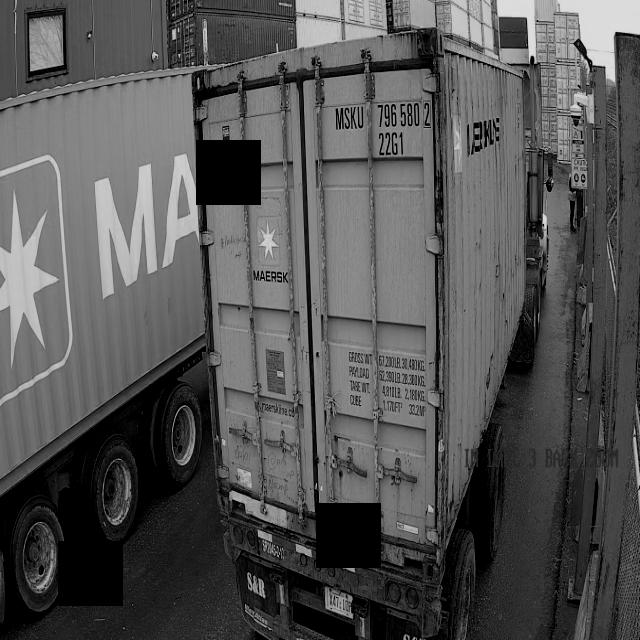container_company_logo: (252, 216, 286, 291)
container_number: (334, 103, 433, 160)
license_plate: (321, 588, 357, 619)
other_container_info: (346, 344, 426, 421)
truck_with_container: (194, 28, 553, 640), (0, 69, 205, 619)
